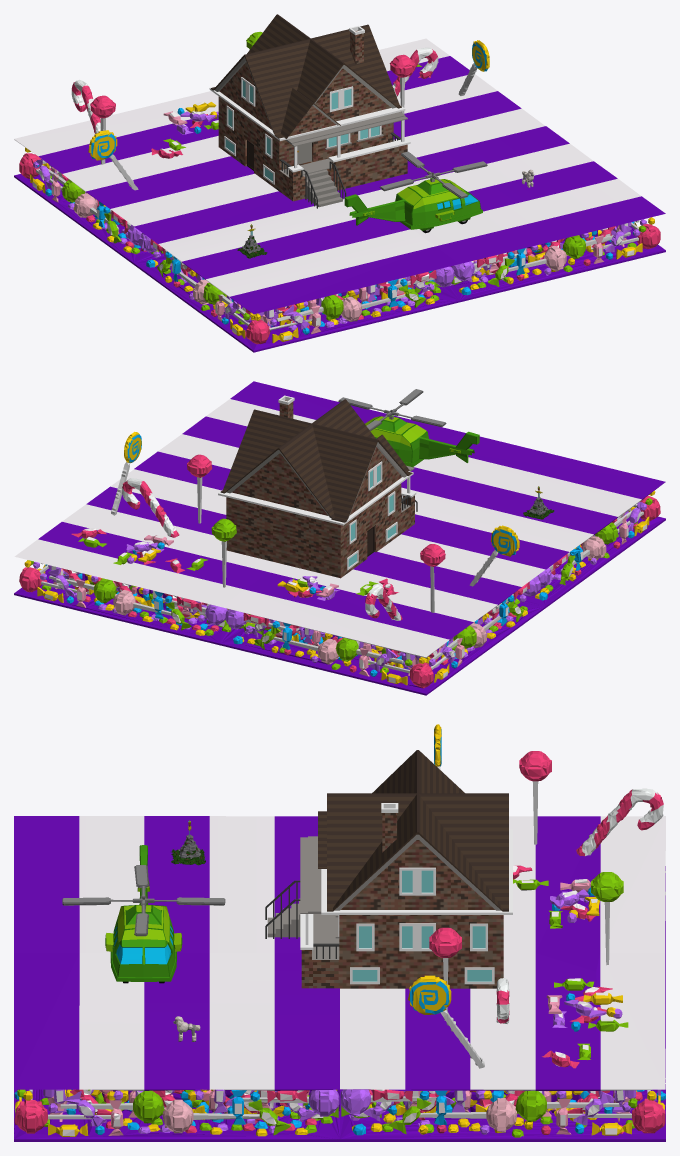
The picture shows the model from 3 angles, top to bottom: view 1: azimuth 30°, elevation 25°; view 2: azimuth 150°, elevation 25°; view 3: azimuth 270°, elevation 25°; orthographic projection. The views are drawn at different scales.
Parts seen in each view (by area): view 1: TERRAIN_CANDY, Cube.117, VEHICLES_HELICOPTER; view 2: TERRAIN_CANDY, Cube.117, VEHICLES_HELICOPTER; view 3: TERRAIN_CANDY, Cube.117, VEHICLES_HELICOPTER, OBJRANDOM_SWORD_IN_THE_STONE.
Part boxes in pixels (x1,y1,x2,y2): TERRAIN_CANDY: (14, 31, 665, 352); Cube.117: (209, 14, 410, 208); VEHICLES_HELICOPTER: (344, 151, 487, 233); TERRAIN_CANDY: (14, 381, 665, 695); Cube.117: (218, 395, 417, 578); VEHICLES_HELICOPTER: (338, 389, 479, 467); TERRAIN_CANDY: (14, 724, 665, 1141); Cube.117: (265, 750, 512, 988); VEHICLES_HELICOPTER: (62, 845, 225, 983); OBJRANDOM_SWORD_IN_THE_STONE: (171, 820, 205, 865).
Size of the model in its own units: 4059 by 1584 by 4000.
36 materials, 3 textured.
